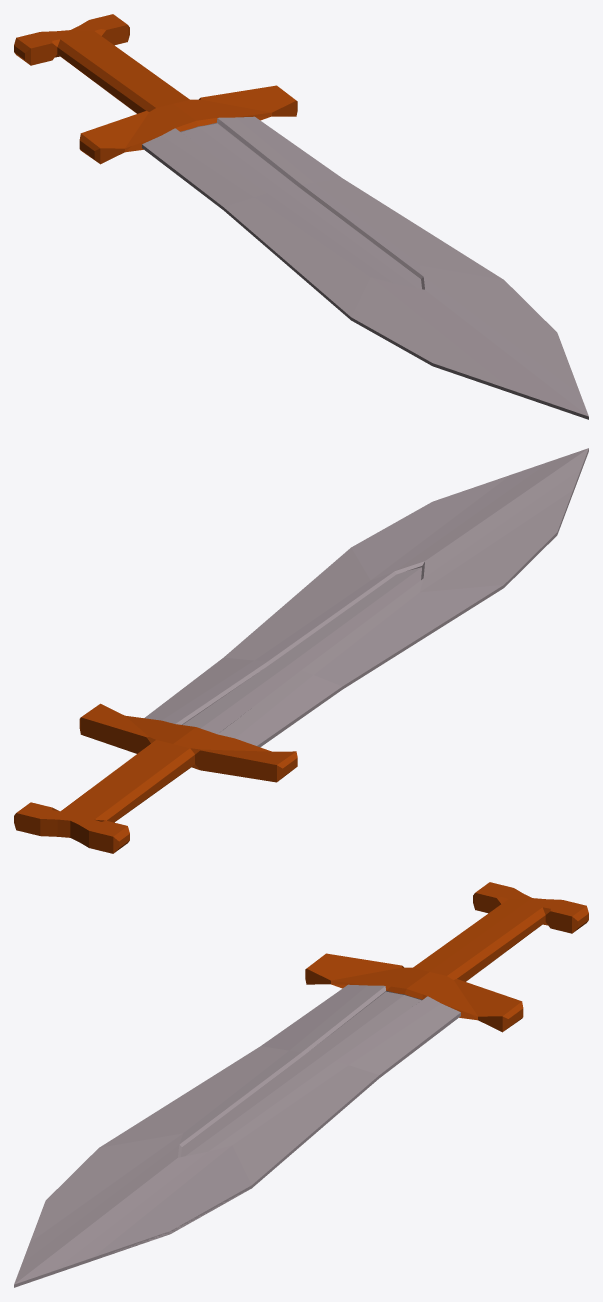
The model's file is Sword.glb.
The picture shows the model from 3 angles, top to bottom: view 1: azimuth 30°, elevation 25°; view 2: azimuth 150°, elevation 25°; view 3: azimuth 330°, elevation 25°; orthographic projection.
Visible parts, largest first — view 1: Plane, Handle; view 2: Plane, Handle; view 3: Plane, Handle.
Part boxes in pixels (x1,y1,x2,y2): Plane: (142,116,588,419); Handle: (14,14,297,164); Plane: (144,448,588,747); Handle: (14,703,297,853); Plane: (14,984,460,1287); Handle: (305,882,588,1032).
Size of the model in its own units: 0.4927 by 0.0466 by 2.2.
